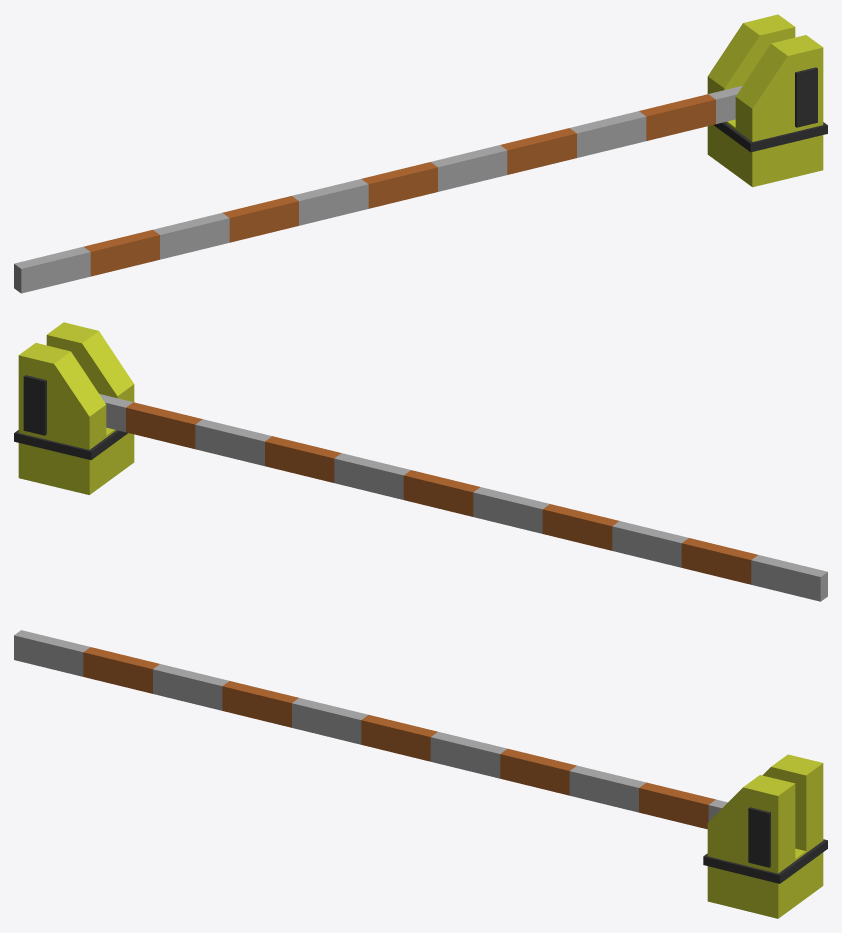
The model's file is Parking_Gate_2.fbx.
3 views of the same model, one above another, from view 1: azimuth 30°, elevation 25°; view 2: azimuth 150°, elevation 25°; view 3: azimuth 330°, elevation 25° (orthographic).
Visible parts, largest first — view 1: Parking_Gate_handle_2, Parking_Gate_2; view 2: Parking_Gate_handle_2, Parking_Gate_2; view 3: Parking_Gate_handle_2, Parking_Gate_2.
Boxes of the visible parts, x1,y1,x2,y2 form: Parking_Gate_handle_2: (14, 85, 742, 293); Parking_Gate_2: (707, 14, 827, 187); Parking_Gate_handle_2: (99, 394, 827, 601); Parking_Gate_2: (14, 322, 134, 494); Parking_Gate_handle_2: (14, 630, 727, 829); Parking_Gate_2: (703, 754, 827, 918).
Size of the model in its own units: 527 by 78.65 by 56.66.
